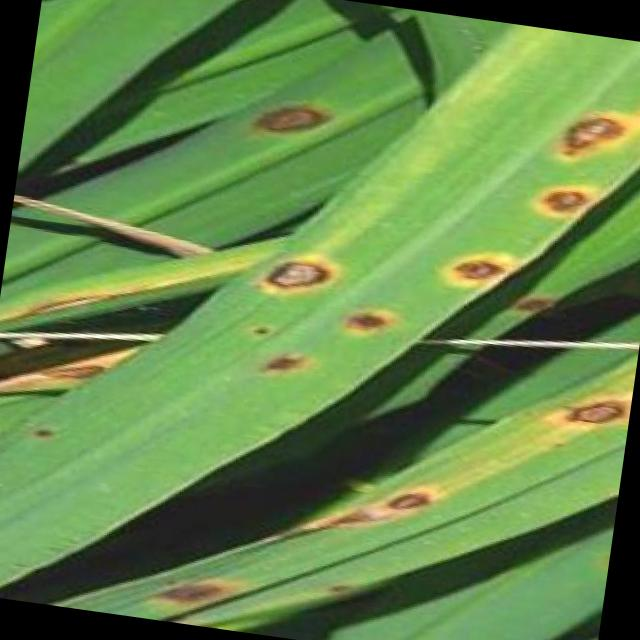Rice_Brownspot: (539, 79, 637, 184), (232, 80, 348, 153), (518, 153, 614, 239), (426, 228, 532, 304), (530, 368, 632, 446), (244, 240, 350, 312), (136, 556, 250, 622), (322, 289, 413, 351), (370, 474, 443, 526), (251, 334, 315, 390), (20, 417, 64, 447), (626, 67, 640, 155), (318, 572, 359, 601), (240, 312, 278, 342)
